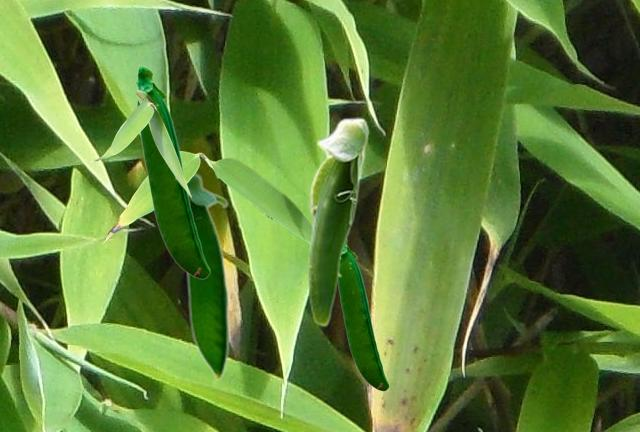pea: (135, 64, 209, 278), (307, 117, 369, 326), (183, 172, 229, 384), (338, 240, 388, 390)
